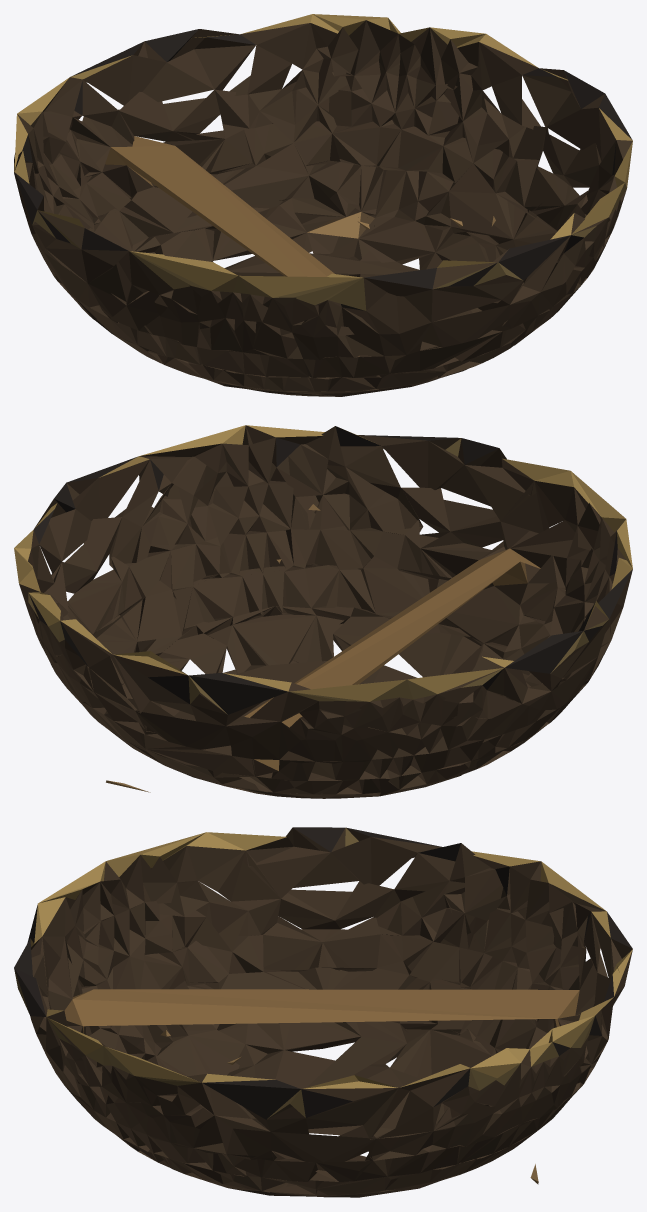
Rendered from thung_chai_flat_edits.mid.glb.
3 views of the same model, one above another, from view 1: azimuth 30°, elevation 25°; view 2: azimuth 150°, elevation 25°; view 3: azimuth 270°, elevation 25° (orthographic).
Visible parts, largest first — view 1: thung_chai_flat_edits; view 2: thung_chai_flat_edits; view 3: thung_chai_flat_edits.
Boxes of the visible parts, <box> form: thung_chai_flat_edits: <box>14,14,632,396</box>; thung_chai_flat_edits: <box>14,425,632,798</box>; thung_chai_flat_edits: <box>14,827,632,1197</box>.
Bounding box in the file's own units: 1.82 × 0.6214 × 1.82.
